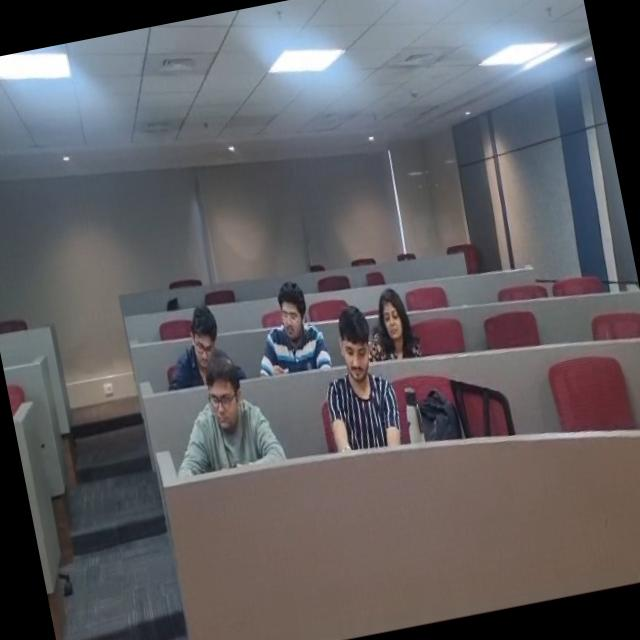cheating: (182, 353, 282, 475), (245, 263, 334, 384)
non-cheating: (313, 299, 407, 462), (356, 272, 430, 368), (160, 292, 230, 392)
